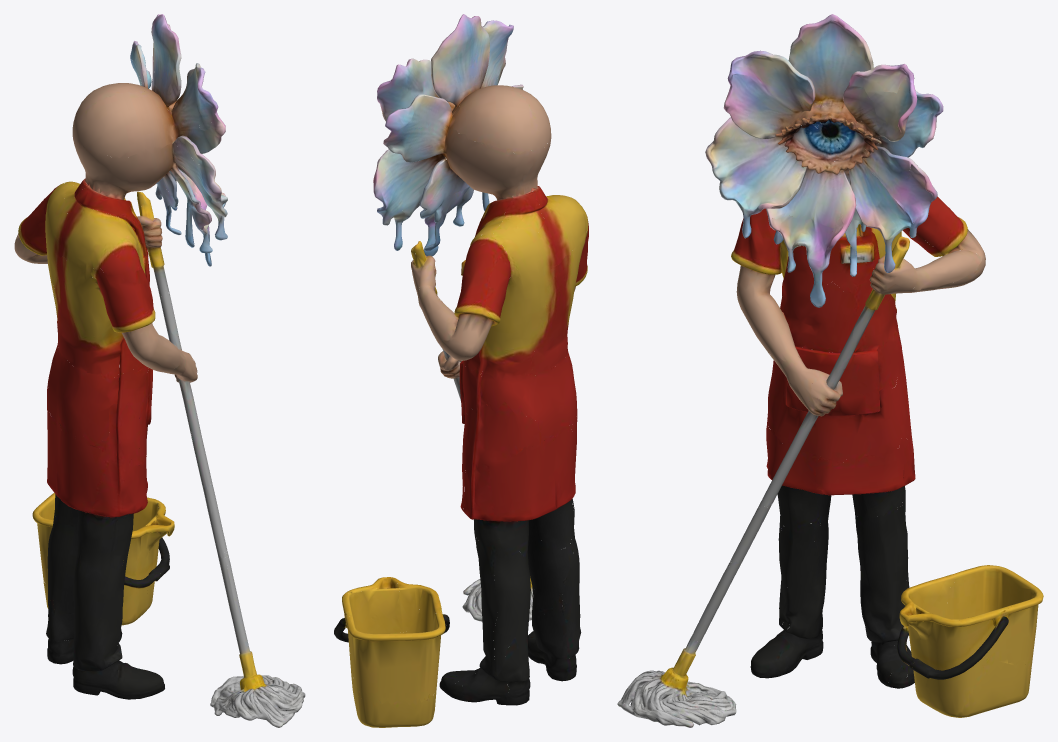
File: prince.glb
3 views of the same model, side by side, from view 1: azimuth 30°, elevation 25°; view 2: azimuth 150°, elevation 25°; view 3: azimuth 270°, elevation 25° (orthographic). The views are drawn at different scales.
Visible parts, largest first — view 1: tripo_node_2dce6e9b-2e8f-44e1-86c0-bc7627a16ed6; view 2: tripo_node_2dce6e9b-2e8f-44e1-86c0-bc7627a16ed6; view 3: tripo_node_2dce6e9b-2e8f-44e1-86c0-bc7627a16ed6.
Part boxes in pixels (bbox=[...]): tripo_node_2dce6e9b-2e8f-44e1-86c0-bc7627a16ed6: bbox=[14, 14, 305, 727]; tripo_node_2dce6e9b-2e8f-44e1-86c0-bc7627a16ed6: bbox=[334, 14, 588, 727]; tripo_node_2dce6e9b-2e8f-44e1-86c0-bc7627a16ed6: bbox=[617, 14, 1043, 727].
Bounding box in the file's own units: 0.2758 × 0.9998 × 0.5647.
Materials: 1 (1 with a texture image).
